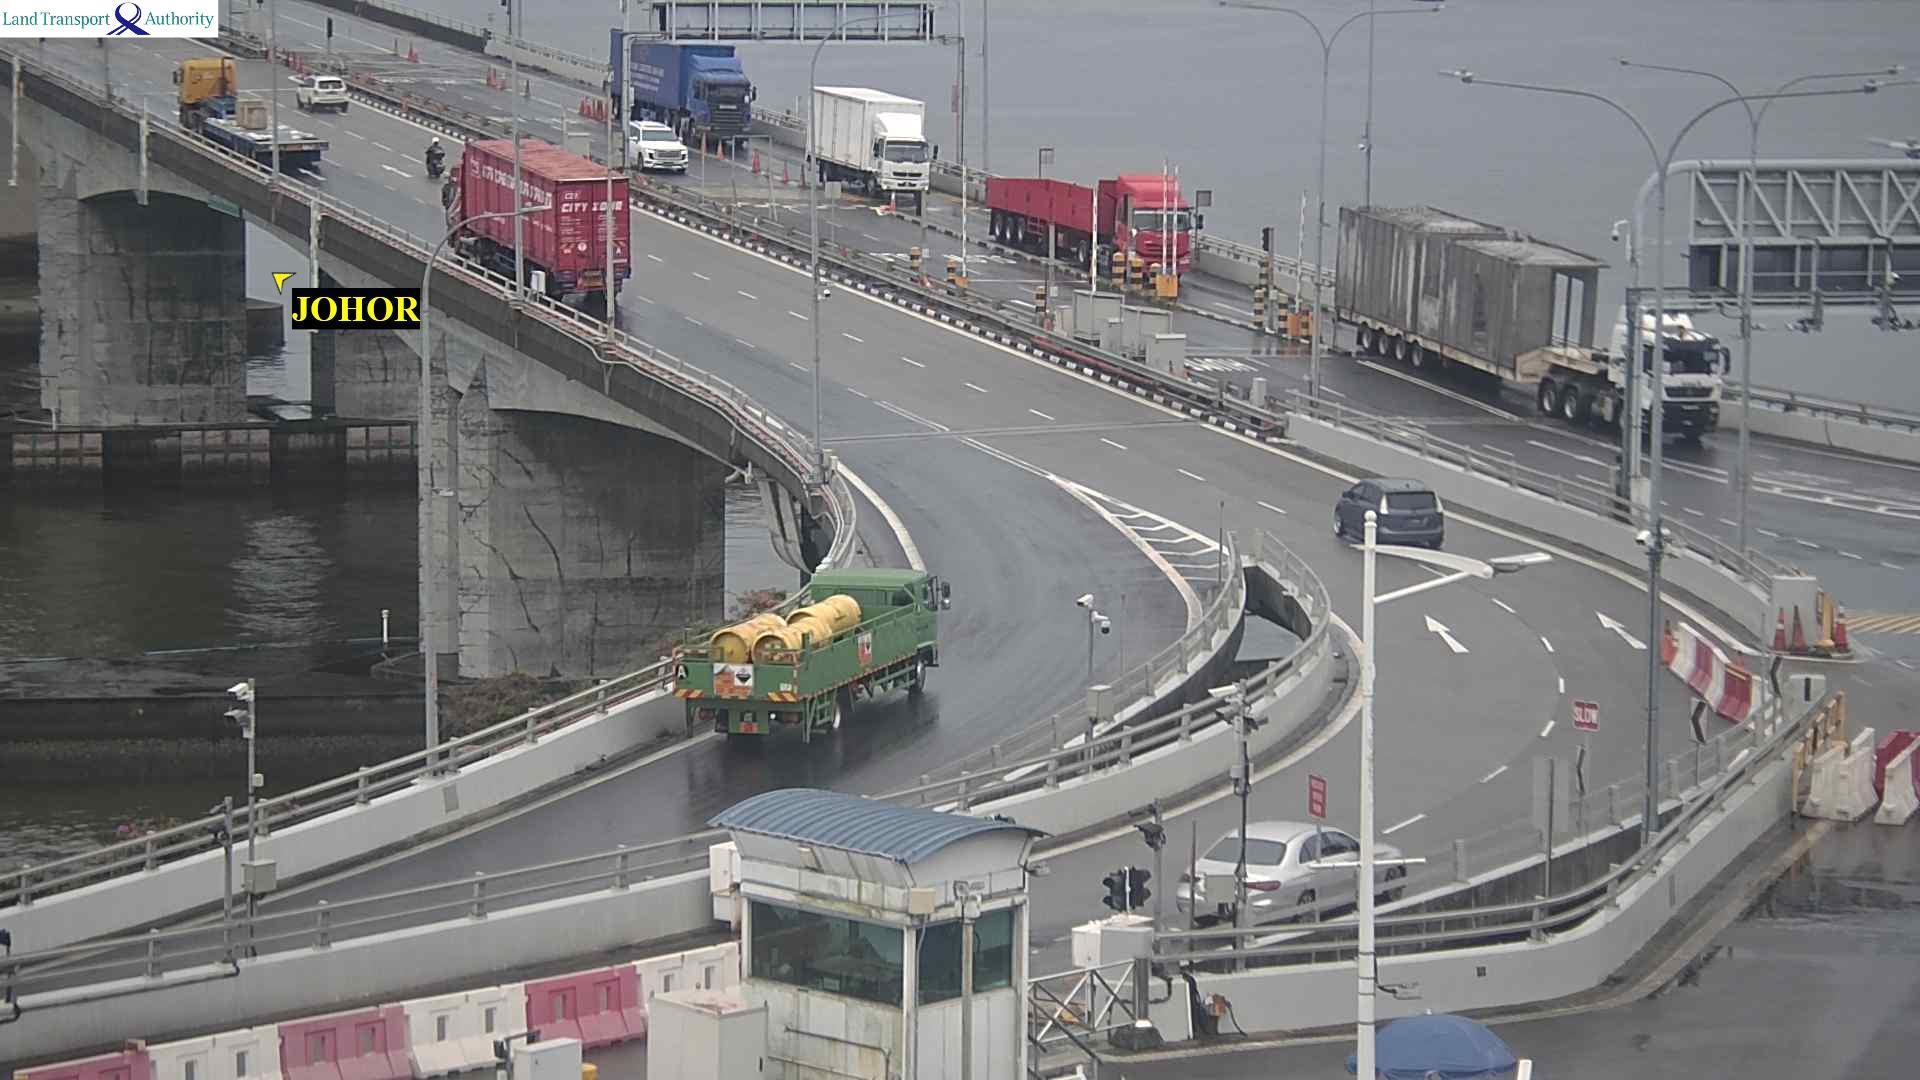vehicle-secondlink-johor: (678, 567, 940, 740), (447, 132, 632, 306), (447, 140, 625, 310), (1204, 824, 1425, 930), (179, 57, 310, 177), (309, 76, 343, 111)
vehicle-secondlink-singapore: (1340, 203, 1709, 440), (984, 173, 1205, 274), (1700, 225, 1920, 327), (775, 84, 943, 198), (613, 36, 757, 148), (1341, 479, 1444, 545), (620, 121, 695, 169), (1873, 289, 1920, 330)
